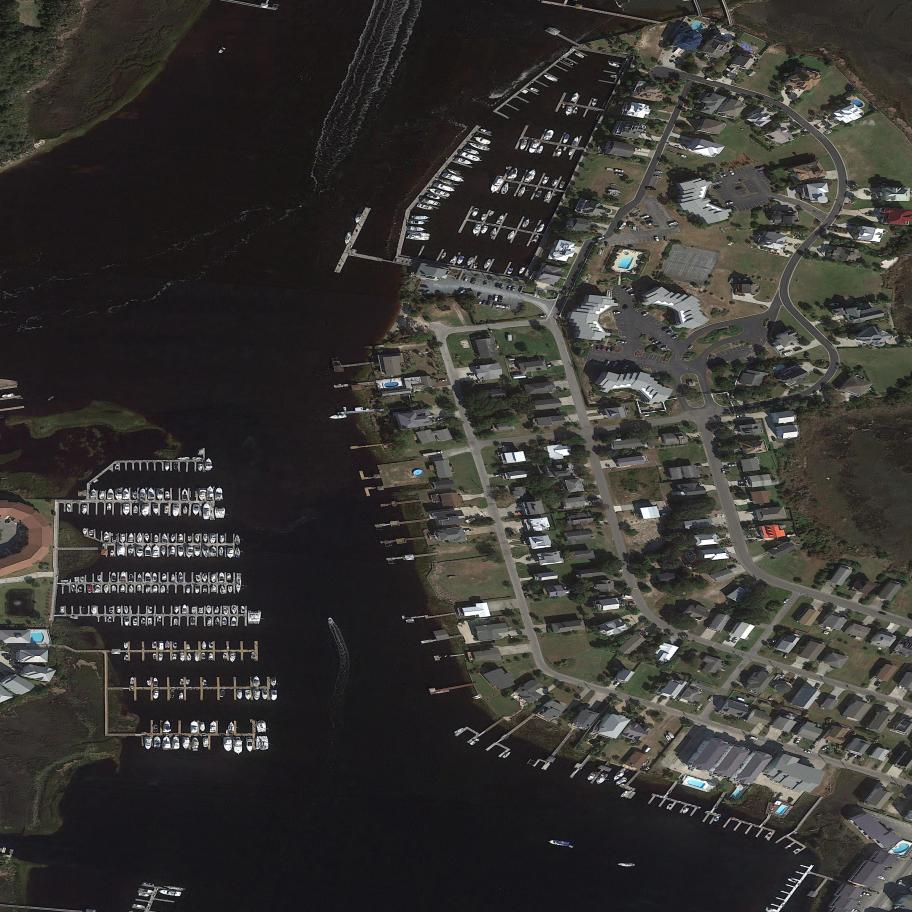ship: (457, 151, 484, 164), (489, 174, 505, 195), (441, 171, 466, 184), (431, 181, 456, 194), (466, 140, 491, 152), (471, 133, 492, 147), (436, 177, 461, 188), (427, 187, 452, 198), (420, 197, 443, 208), (524, 167, 538, 185), (453, 156, 474, 167), (158, 888, 183, 897), (595, 771, 609, 787), (527, 139, 540, 156), (232, 736, 243, 756), (612, 768, 626, 783), (416, 202, 436, 212), (543, 128, 556, 143), (507, 166, 519, 182), (547, 839, 571, 847), (462, 146, 481, 156), (585, 769, 599, 782), (542, 189, 554, 204), (499, 181, 511, 196), (163, 884, 185, 892), (542, 73, 559, 83), (690, 20, 704, 32), (614, 775, 628, 787), (562, 104, 573, 118), (471, 222, 482, 236), (488, 225, 499, 239), (328, 413, 347, 421), (517, 184, 527, 199), (235, 573, 242, 594), (406, 234, 430, 240), (202, 503, 210, 520), (223, 737, 232, 752), (495, 214, 506, 226), (506, 229, 517, 241), (570, 91, 580, 104), (470, 206, 480, 219), (521, 217, 531, 230), (535, 143, 545, 156), (518, 138, 528, 151), (482, 258, 492, 271), (245, 737, 253, 753), (446, 168, 462, 176), (562, 58, 576, 67), (479, 127, 493, 136), (344, 231, 353, 245), (616, 862, 637, 868), (763, 830, 774, 841), (144, 736, 152, 751), (536, 222, 546, 234), (426, 193, 441, 201), (407, 226, 427, 232), (465, 256, 475, 268), (501, 750, 513, 760), (354, 212, 363, 225), (411, 214, 430, 220), (172, 736, 180, 750), (191, 738, 199, 752), (141, 503, 149, 517), (205, 457, 213, 471), (215, 487, 223, 501), (607, 61, 621, 69), (480, 224, 490, 235), (534, 188, 543, 200), (571, 135, 580, 147), (456, 254, 465, 266), (453, 726, 465, 735), (608, 188, 623, 195), (202, 545, 210, 558), (185, 546, 193, 559), (190, 720, 198, 733), (162, 720, 170, 733), (156, 488, 164, 501), (172, 503, 180, 516), (620, 789, 630, 799), (574, 50, 585, 59), (590, 97, 599, 108), (479, 212, 488, 223), (163, 736, 170, 750), (132, 903, 146, 910), (408, 232, 432, 236), (209, 721, 217, 733), (138, 888, 154, 894), (144, 545, 152, 557), (139, 488, 146, 501), (152, 503, 159, 516), (198, 488, 205, 501), (666, 220, 679, 227), (439, 251, 448, 261), (541, 176, 550, 186), (408, 220, 426, 225), (667, 730, 676, 740), (791, 846, 801, 855), (153, 736, 161, 747), (532, 233, 540, 244), (562, 134, 570, 145), (183, 736, 189, 750), (153, 545, 160, 557), (123, 504, 130, 516), (207, 486, 213, 500), (619, 221, 627, 231), (218, 689, 226, 699), (123, 616, 130, 627), (218, 572, 225, 583), (229, 652, 236, 663), (253, 676, 260, 687), (270, 690, 277, 701), (261, 689, 268, 700), (253, 689, 260, 700), (227, 548, 234, 559), (136, 546, 143, 557), (177, 546, 184, 557), (193, 505, 200, 516), (529, 87, 540, 94), (555, 147, 562, 158), (450, 254, 457, 265), (228, 721, 234, 733), (138, 892, 150, 898), (107, 488, 113, 500), (148, 488, 154, 500), (123, 488, 129, 500), (116, 488, 122, 500), (506, 267, 514, 276), (517, 266, 525, 275), (665, 734, 673, 743), (786, 878, 798, 884), (713, 815, 721, 824), (222, 605, 229, 615), (90, 605, 97, 615), (94, 584, 101, 594), (194, 546, 201, 556), (153, 690, 160, 700), (270, 677, 277, 687), (90, 489, 97, 499), (81, 505, 88, 515), (103, 531, 110, 541), (161, 533, 168, 543), (128, 546, 135, 556), (160, 546, 167, 556), (551, 178, 558, 188), (234, 535, 240, 546), (210, 546, 216, 557), (202, 737, 208, 748), (235, 547, 241, 558), (99, 489, 105, 500), (182, 489, 188, 500), (218, 46, 226, 54), (568, 148, 575, 157), (666, 802, 673, 811), (683, 806, 690, 815), (327, 616, 334, 625), (146, 679, 153, 688), (231, 605, 237, 615), (170, 573, 176, 583), (152, 572, 158, 582), (145, 572, 151, 582), (128, 573, 134, 583), (237, 690, 243, 700), (245, 690, 251, 700), (170, 546, 176, 556), (640, 214, 650, 220), (559, 180, 565, 190), (488, 210, 495, 218), (121, 571, 126, 582), (207, 618, 213, 627), (103, 585, 109, 594), (202, 573, 208, 582), (185, 586, 191, 595), (199, 722, 205, 731), (111, 572, 117, 581), (201, 641, 207, 650), (179, 653, 185, 662), (120, 534, 126, 543), (128, 533, 134, 542), (144, 533, 150, 542), (194, 534, 200, 543), (210, 534, 216, 543), (573, 106, 579, 115), (189, 617, 195, 626), (169, 690, 175, 699), (182, 604, 187, 614), (220, 585, 225, 595), (178, 572, 183, 582), (137, 573, 142, 583), (137, 533, 142, 543), (206, 606, 212, 614), (123, 606, 129, 614), (128, 585, 134, 593), (194, 585, 200, 593), (195, 574, 201, 582), (160, 585, 166, 593), (152, 585, 158, 593), (208, 652, 214, 660), (164, 491, 170, 499), (173, 462, 179, 470), (79, 575, 85, 583), (231, 617, 236, 626), (211, 574, 216, 583), (153, 678, 158, 687), (165, 640, 170, 649), (194, 653, 199, 662), (219, 547, 224, 556), (220, 535, 225, 544), (132, 491, 137, 500), (164, 505, 169, 514), (829, 302, 840, 306), (147, 607, 153, 614), (226, 573, 232, 580), (211, 585, 217, 592), (145, 586, 151, 593), (172, 642, 178, 649), (208, 642, 214, 649), (729, 277, 735, 284), (222, 617, 227, 625), (215, 617, 220, 625), (174, 606, 179, 614), (120, 585, 125, 593), (191, 606, 196, 614), (162, 573, 167, 581), (130, 676, 135, 684), (179, 692, 184, 700), (201, 652, 206, 660), (97, 574, 102, 582), (187, 653, 192, 661), (164, 463, 169, 471), (178, 534, 183, 542), (203, 534, 208, 542), (198, 463, 203, 471), (66, 504, 71, 512), (107, 503, 112, 511), (133, 506, 138, 514), (183, 506, 188, 514), (114, 463, 119, 471), (60, 580, 70, 584), (86, 585, 91, 593), (222, 652, 227, 660), (159, 652, 163, 661), (178, 457, 190, 460), (173, 618, 178, 625), (148, 618, 153, 625), (141, 617, 146, 624), (109, 606, 114, 613), (111, 585, 116, 592), (228, 586, 233, 593), (179, 678, 184, 685), (124, 642, 129, 649), (124, 654, 129, 661), (251, 652, 256, 659), (154, 535, 159, 542), (110, 550, 115, 557), (74, 576, 79, 583), (71, 585, 76, 592), (60, 606, 65, 613), (152, 641, 157, 648), (172, 653, 177, 660), (202, 679, 207, 686), (192, 457, 203, 460), (737, 278, 748, 281), (69, 616, 80, 619), (241, 606, 245, 614), (116, 607, 121, 613), (214, 607, 219, 613), (83, 529, 88, 535), (203, 586, 207, 593), (171, 535, 175, 542), (152, 653, 156, 660), (187, 536, 192, 541), (108, 616, 112, 622), (633, 226, 637, 232), (186, 679, 190, 685), (78, 587, 82, 592)
small-vehicle: (643, 745, 652, 755), (458, 287, 467, 296), (726, 635, 734, 644), (862, 892, 874, 898), (821, 744, 831, 751), (640, 766, 650, 773), (622, 284, 630, 292), (659, 741, 667, 749), (613, 680, 621, 688), (896, 878, 903, 887), (677, 153, 687, 159), (649, 336, 657, 343), (794, 737, 801, 745), (707, 695, 714, 703), (732, 637, 739, 645), (612, 360, 619, 368), (623, 363, 630, 371), (585, 703, 592, 711), (749, 735, 760, 740), (660, 344, 669, 350), (622, 594, 632, 599), (812, 740, 819, 747), (874, 681, 881, 688), (721, 171, 728, 178), (783, 598, 790, 605), (424, 289, 432, 295), (625, 286, 633, 292), (666, 329, 674, 335), (671, 334, 679, 340), (616, 340, 628, 344), (605, 359, 611, 367), (718, 172, 724, 180), (597, 235, 605, 241), (420, 284, 429, 289), (793, 347, 802, 352), (487, 294, 493, 301), (662, 326, 669, 332), (642, 311, 649, 317), (780, 673, 786, 680), (729, 169, 735, 176), (804, 352, 810, 359), (655, 342, 663, 347), (652, 340, 660, 345), (803, 750, 813, 754), (726, 200, 734, 205), (771, 435, 776, 443), (646, 187, 656, 191), (714, 185, 722, 190), (615, 169, 625, 173), (482, 300, 488, 306), (768, 639, 777, 643), (498, 296, 503, 303), (610, 346, 615, 353), (478, 292, 483, 299), (525, 593, 530, 600), (464, 276, 469, 283), (655, 236, 660, 243), (635, 147, 643, 151), (738, 480, 746, 484), (654, 175, 662, 179), (737, 187, 745, 191), (588, 229, 596, 233), (656, 170, 664, 174), (623, 304, 628, 310), (511, 286, 516, 292), (506, 285, 511, 291), (587, 500, 597, 503), (721, 468, 726, 474), (472, 278, 477, 284), (621, 712, 626, 718), (494, 295, 498, 302), (478, 299, 482, 306), (500, 283, 504, 290), (463, 529, 472, 532), (728, 464, 737, 467), (615, 173, 624, 176), (749, 527, 758, 530), (738, 484, 747, 487), (487, 301, 492, 306), (605, 242, 610, 247), (516, 511, 524, 514), (440, 379, 448, 382), (468, 374, 476, 377), (484, 280, 488, 286), (607, 346, 611, 352), (601, 346, 605, 351), (596, 345, 600, 350), (629, 293, 638, 295), (738, 294, 746, 296), (695, 464, 702, 466)
